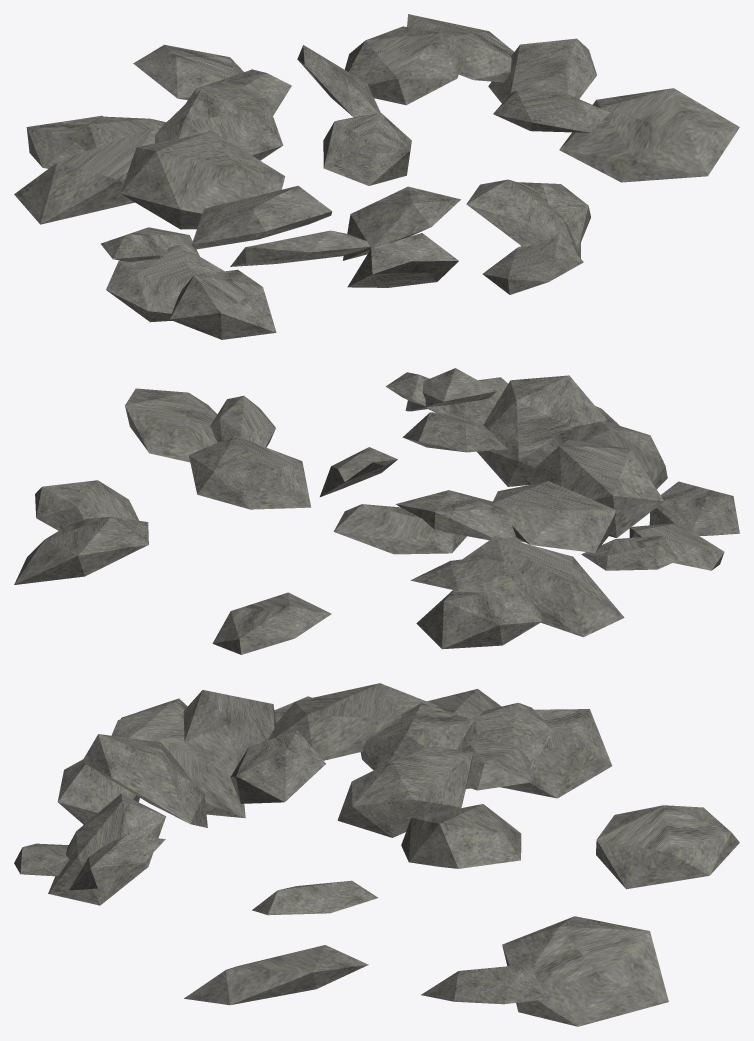
The model's file is rock_highlands_scree_a.glb.
The picture shows the model from 3 angles, top to bottom: view 1: azimuth 30°, elevation 25°; view 2: azimuth 150°, elevation 25°; view 3: azimuth 270°, elevation 25°; orthographic projection. The views are drawn at different scales.
Parts seen in each view (by area): view 1: rock_highlands_scree_a; view 2: rock_highlands_scree_a; view 3: rock_highlands_scree_a.
Boxes of the visible parts, x1,y1,x2,y2 form: rock_highlands_scree_a: (14, 14, 739, 339); rock_highlands_scree_a: (14, 368, 739, 654); rock_highlands_scree_a: (14, 683, 739, 1026).
Bounding box in the file's own units: 2.53 × 0.4846 × 2.41.
Materials: 1 (1 with a texture image).
